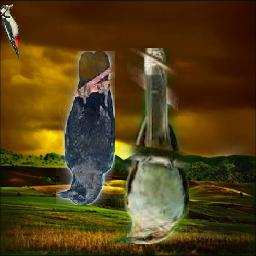Crow: (57, 51, 116, 205)
Cuckoo: (111, 48, 190, 244)
Woodpecker: (0, 4, 19, 66)
